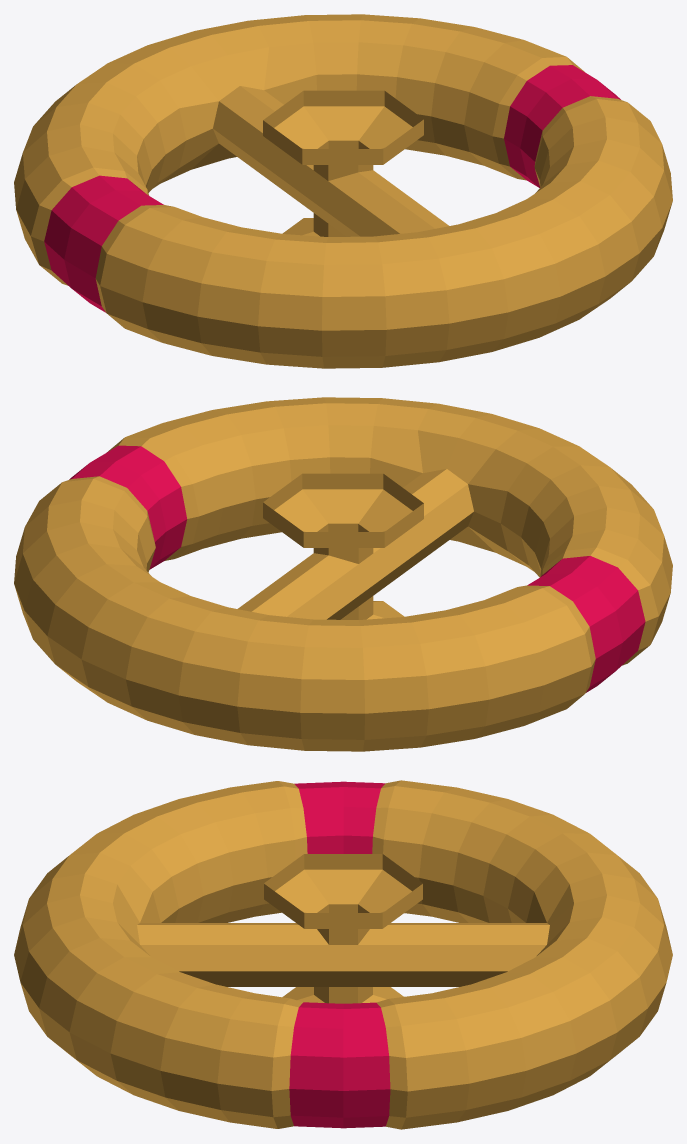
Rendered from HabitationTorus01001RS.fbx.
3 renders of one model, top to bottom at view 1: azimuth 30°, elevation 25°; view 2: azimuth 150°, elevation 25°; view 3: azimuth 270°, elevation 25°, orthographic.
Parts seen in each view (by area): view 1: HabitationTorus; view 2: HabitationTorus; view 3: HabitationTorus.
Boxes of the visible parts, bbox=[...] form: HabitationTorus: bbox=[14, 14, 672, 368]; HabitationTorus: bbox=[14, 397, 672, 751]; HabitationTorus: bbox=[14, 780, 672, 1129].
Size of the model in its own units: 245 by 59.9 by 250.
